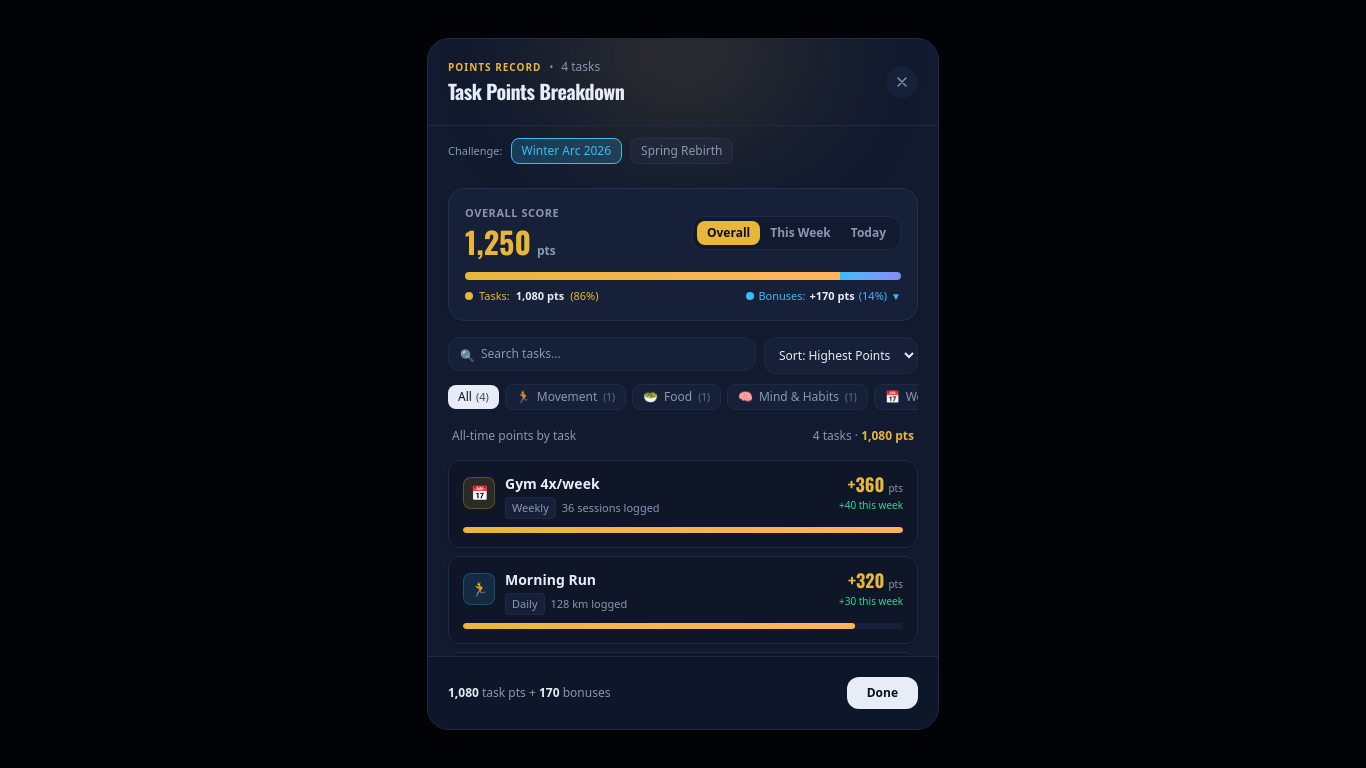
TaskPointsModal › filters tasks by category pills
Click Food category
Click the button "🥗 Food (1)".
click(676, 397)  # box x1=632 y1=384 x2=721 y2=410
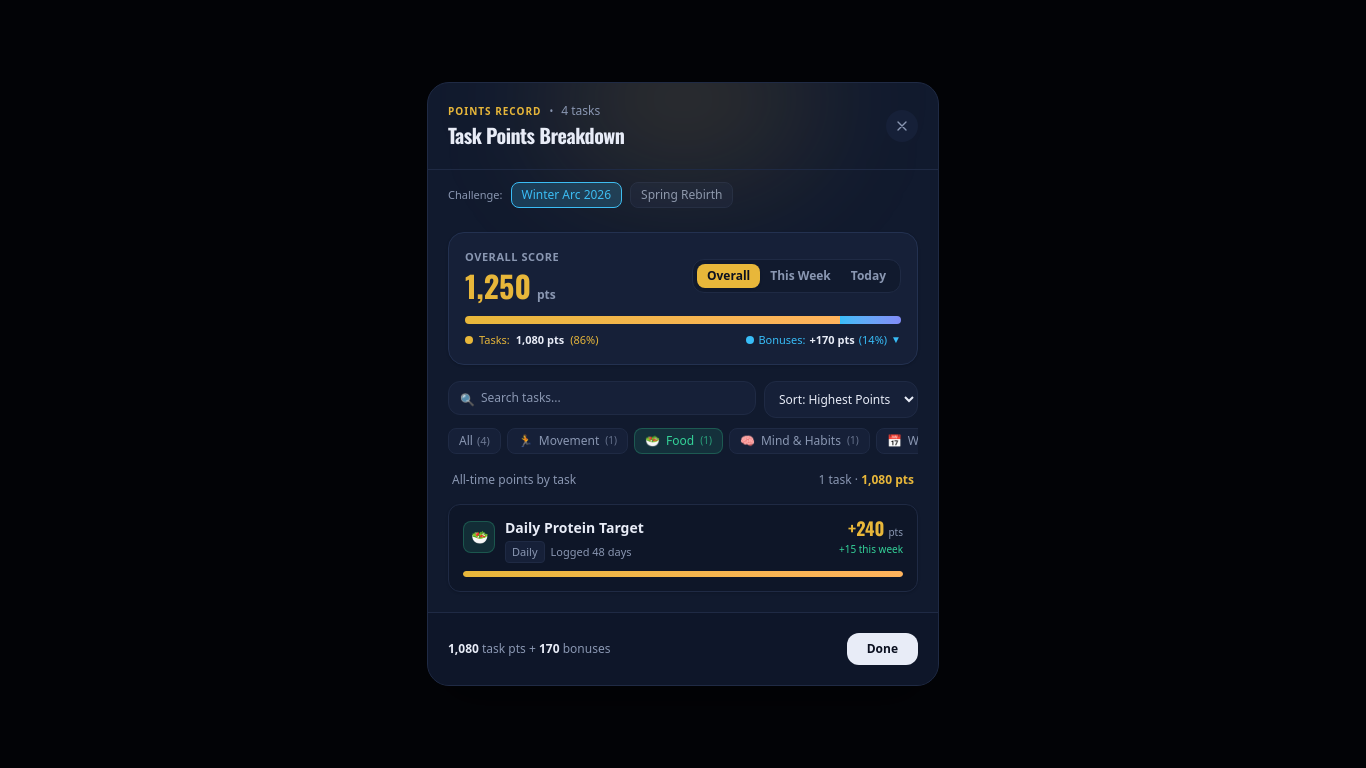
Expected: the text "Meditation 15m" is not shown
Expected: the heading "Daily Protein Target" is shown, x1=505 y1=519 x2=644 y2=536
Expected: the heading "Morning Run" is gone
